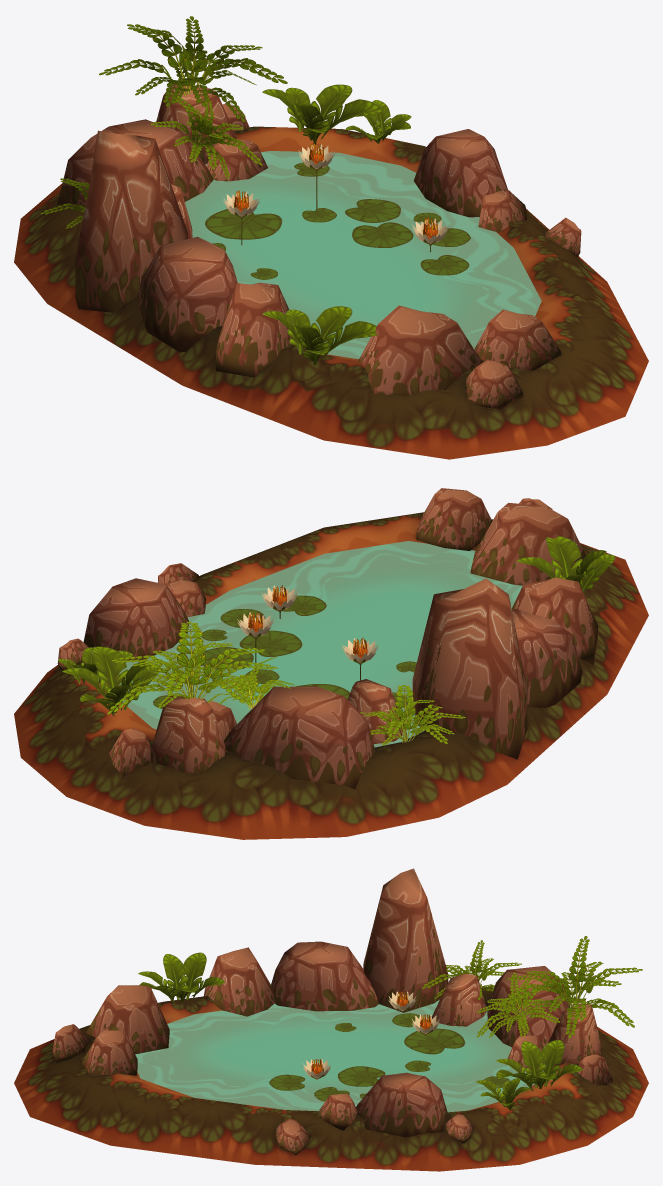
File: Village_Pond.FBX
3 renders of one model, top to bottom at view 1: azimuth 30°, elevation 25°; view 2: azimuth 150°, elevation 25°; view 3: azimuth 270°, elevation 25°, orthographic. The views are drawn at different scales.
Parts seen in each view (by area): view 1: Pond, Line1425, Line1429, Line1427, Line1426, Line1430, Line1428; view 2: Pond, Line1425, Line1429, Line1427, Line1426, Line1424, Line1430, Line1428; view 3: Pond, Line1425, Line1429, Line1427, Line1426, Line1430, Line1424, Line1428.
Boxes of the visible parts, <box> form: Pond: <box>14,84,648,459</box>; Line1425: <box>205,143,470,279</box>; Line1429: <box>99,16,287,122</box>; Line1427: <box>262,84,382,144</box>; Line1426: <box>262,306,377,365</box>; Line1430: <box>150,93,262,179</box>; Line1428: <box>345,100,411,143</box>; Pond: <box>14,488,648,839</box>; Line1425: <box>153,585,416,708</box>; Line1429: <box>107,621,277,714</box>; Line1427: <box>62,646,160,716</box>; Line1426: <box>516,536,615,591</box>; Line1424: <box>360,685,465,745</box>; Line1430: <box>201,656,297,709</box>; Line1428: <box>58,647,132,684</box>; Pond: <box>14,868,648,1171</box>; Line1425: <box>269,991,510,1101</box>; Line1429: <box>501,936,642,1038</box>; Line1427: <box>496,1040,582,1090</box>; Line1426: <box>138,952,224,1002</box>; Line1430: <box>476,972,559,1037</box>; Line1424: <box>422,940,521,999</box>; Line1428: <box>475,1078,529,1110</box>.
Size of the model in its own units: 255 by 93.76 by 387.
